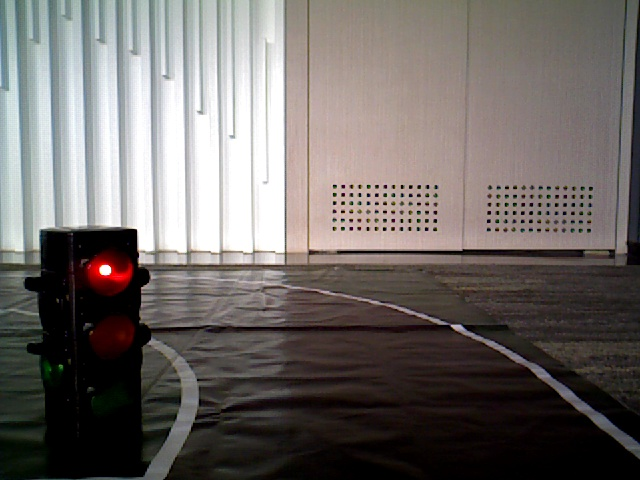red: (65, 241, 141, 443)
